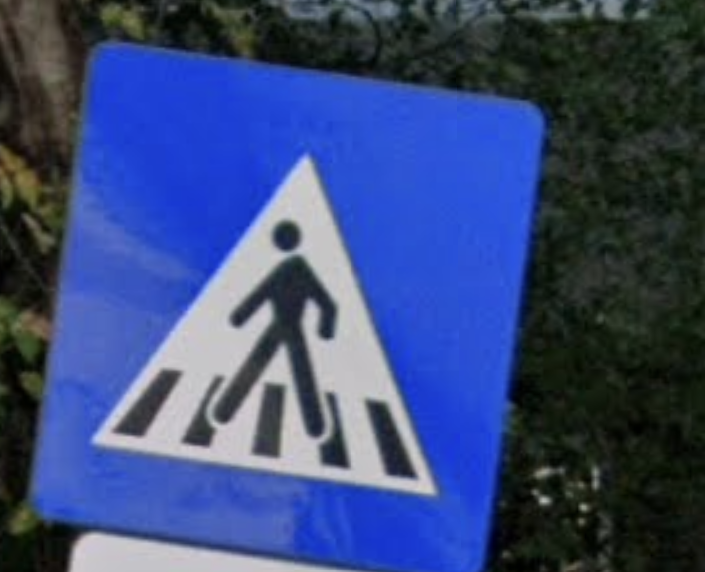trecere_pietoni: (42, 26, 547, 557)
